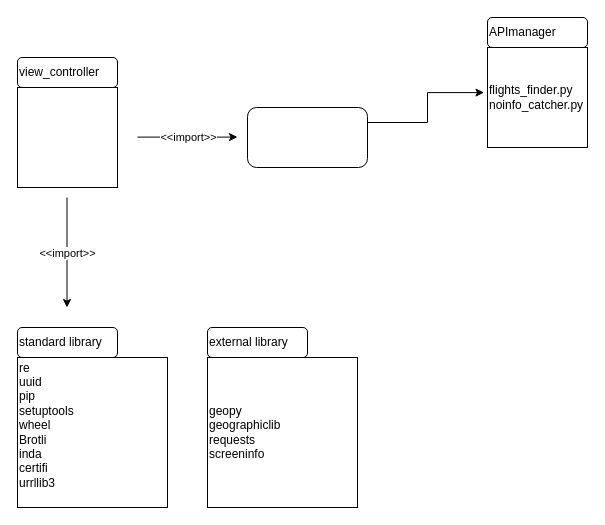
The diagram is 605 pixels wide and 525 high, and some of its shapes have lost their labels. Here are the shapes that lost their labels. From the top down, the box of each, then its label:
(16, 86, 118, 188): main.py
(246, 106, 368, 168): model (custom modules)
